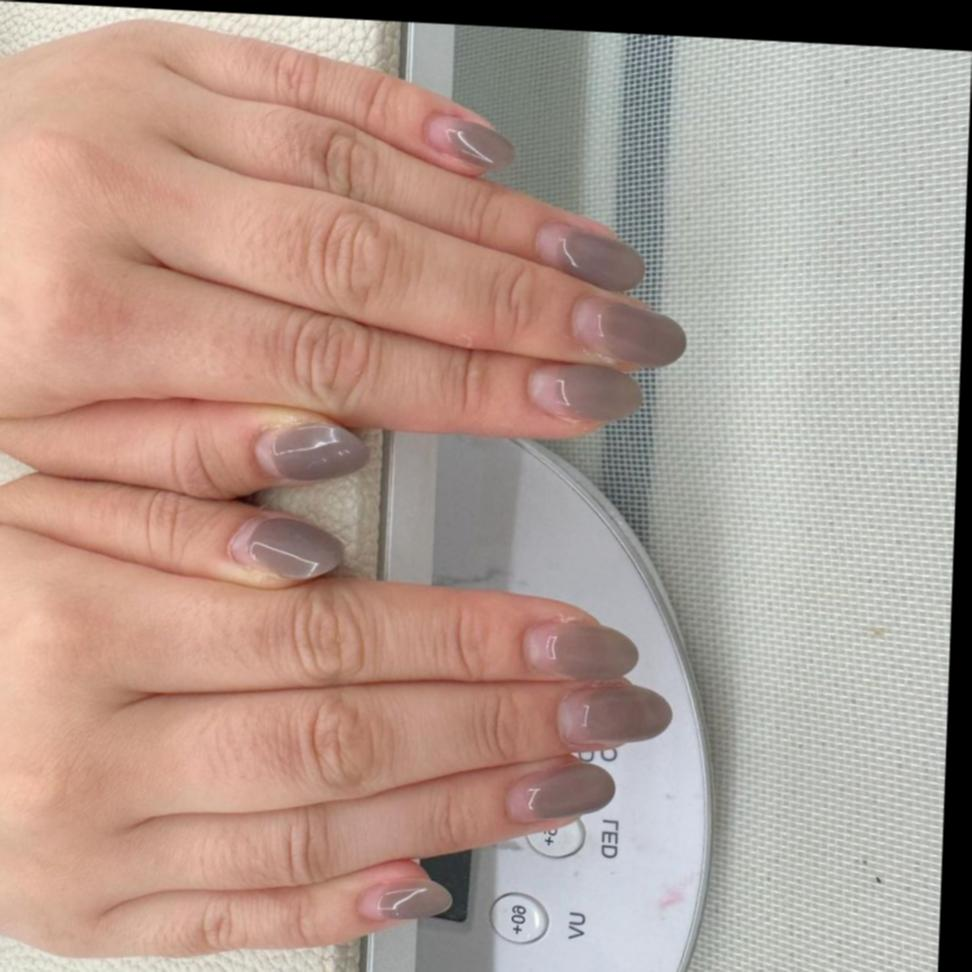nail: (568, 292, 687, 369), (553, 677, 673, 752), (225, 510, 346, 582), (531, 219, 647, 293), (520, 614, 639, 682), (252, 416, 369, 483), (505, 756, 616, 826), (525, 359, 644, 424), (421, 108, 518, 171), (357, 873, 453, 923)
